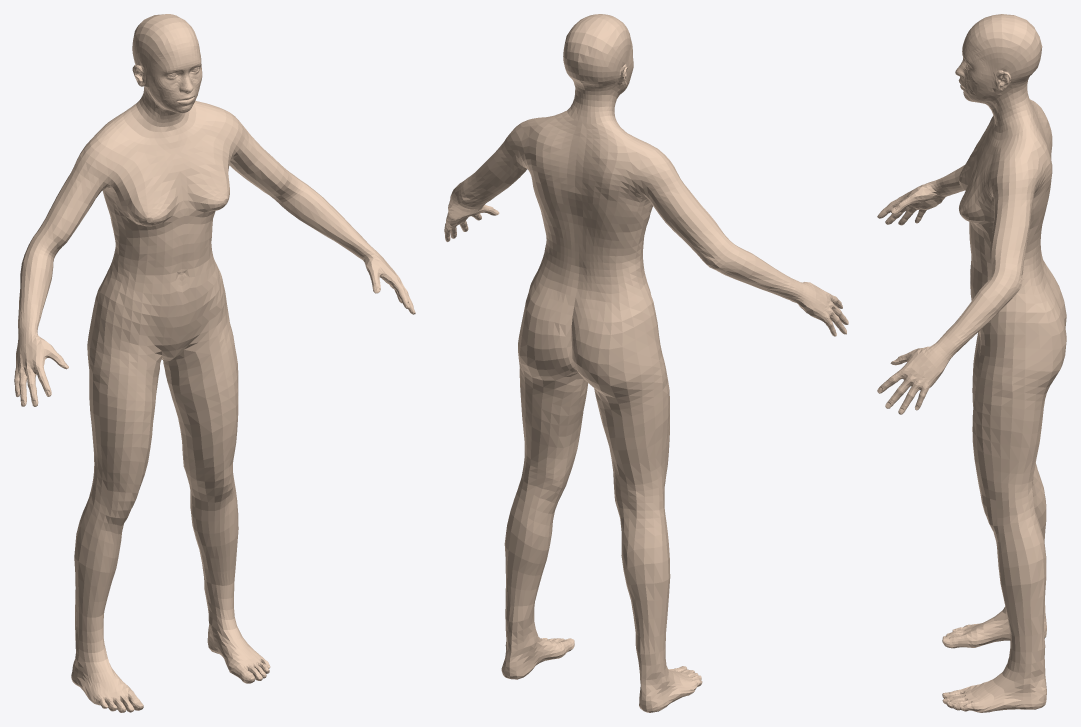
File: female-mature-average-strong.glb
3 renders of one model, left to right at view 1: azimuth 30°, elevation 25°; view 2: azimuth 150°, elevation 25°; view 3: azimuth 270°, elevation 25°, orthographic.
Visible parts, largest first — view 1: world; view 2: world; view 3: world.
Part boxes in pixels (x1=…): world: x1=14, y1=14, x2=415, y2=712; world: x1=444, y1=14, x2=848, y2=712; world: x1=877, y1=14, x2=1066, y2=712.
Bounding box in the file's own units: 1.12 × 1.81 × 0.4723.
